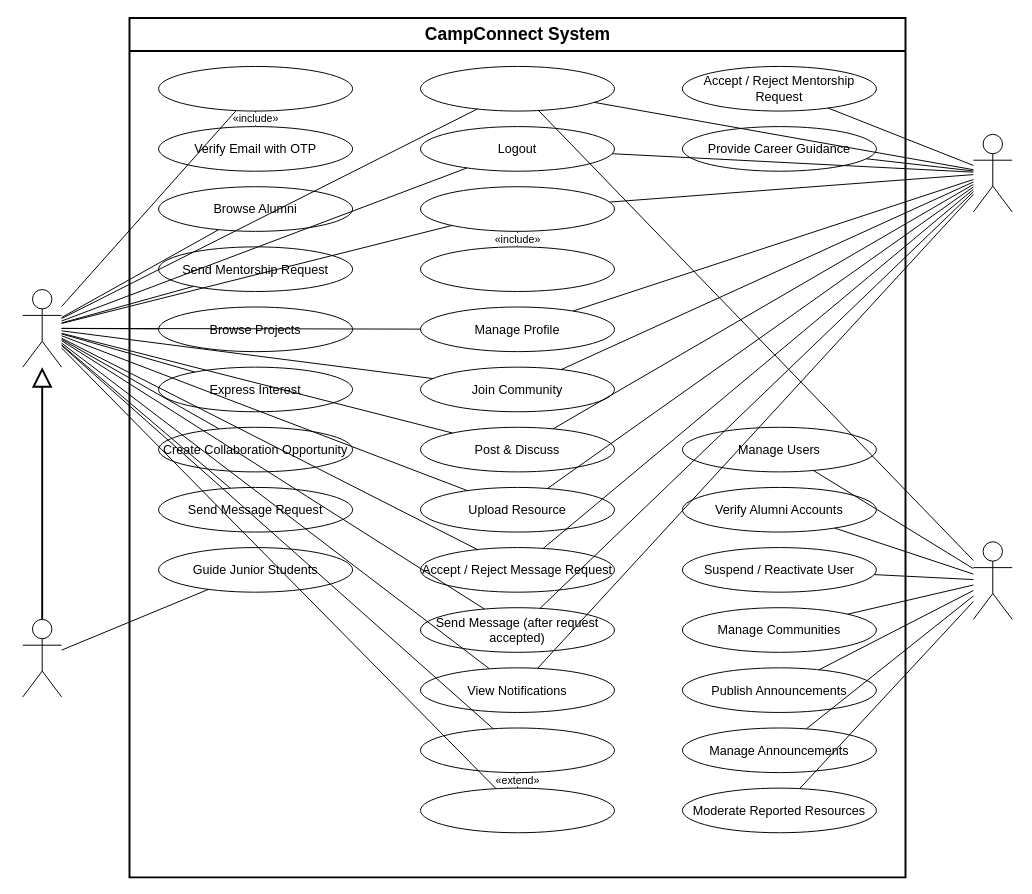
This 1032x894 diagram has some shape labels left out. Here are the shapes that lost their labels. From the top down, the centre of each, then its label:
At [255,88]: "Register Account".
At [517,88]: "Login".
At [992,172]: "Alumni".
At [517,208]: "Forgot Password".
At [517,268]: "Reset Password".
At [42,328]: "Student".
At [992,580]: "Admin".
At [42,657]: "Senior".
At [517,750]: "Browse & Download Resource".
At [517,810]: "Report Resource".
